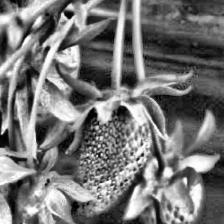Gray Mold: (71, 72, 150, 217)
